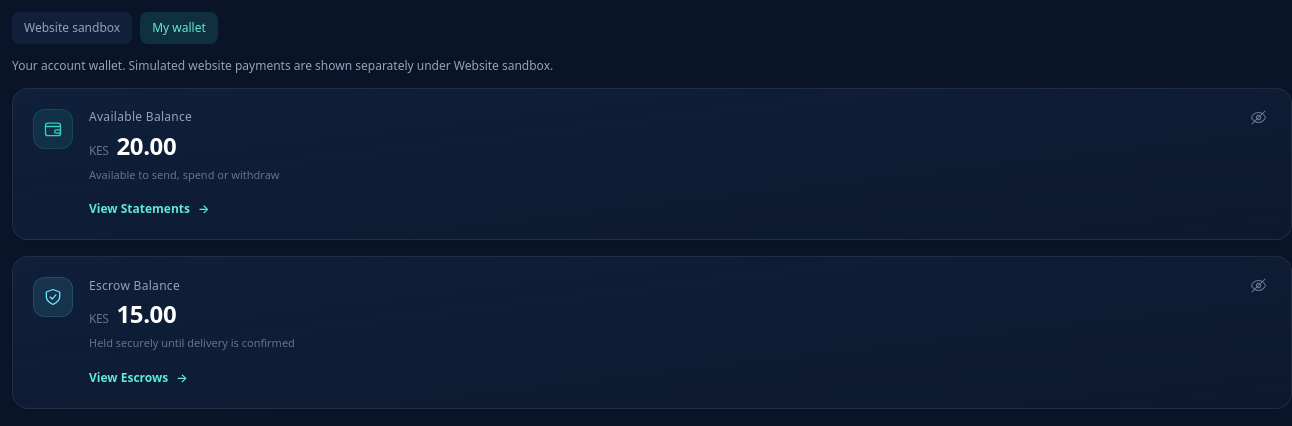
it: website funds move from escrow to available and account wallet stays separate
Later steps or results of the test are not shown.
Expected: the text "20.00" is shown, [116,130,176,162]
Click the button "Website sandbox". click: point(72, 28)
box: [12,12,132,44]
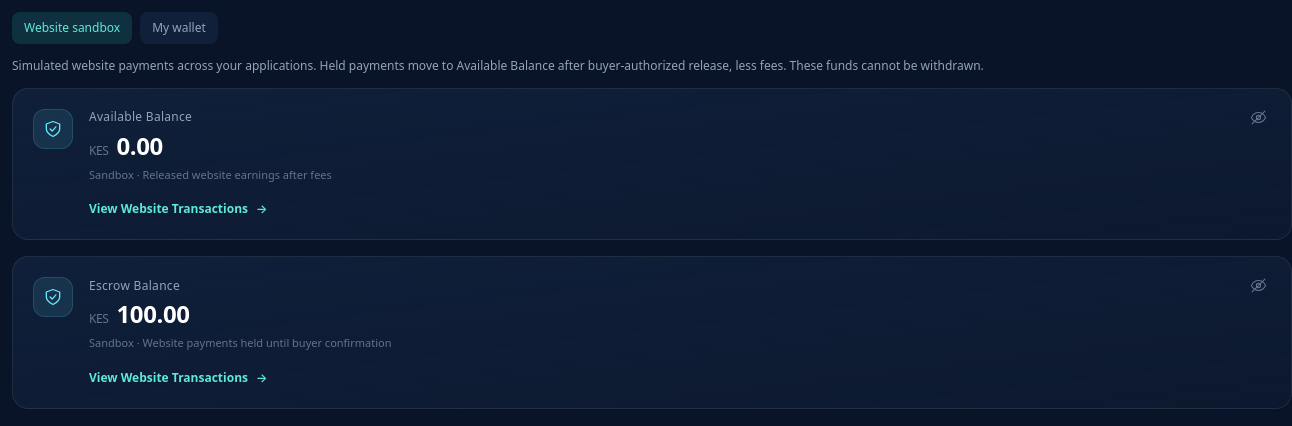
Expected: the text "0.00" is shown, [116,130,163,162]
Result: the text "100.00" is shown at [116,298,190,330]
